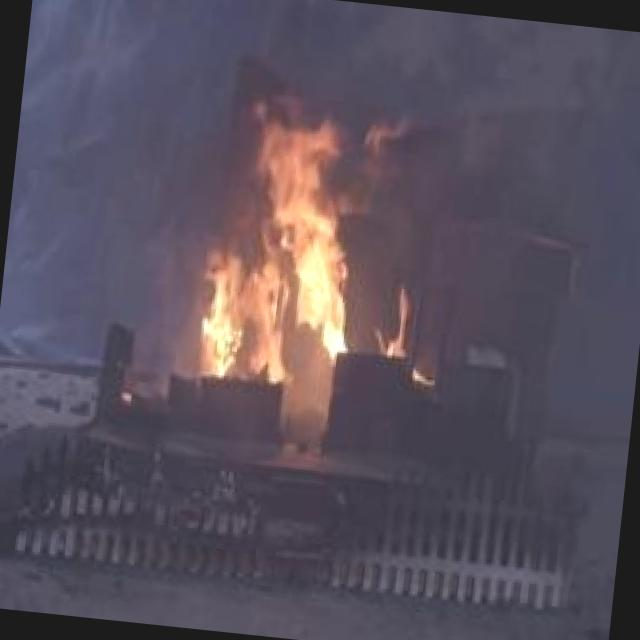fire: (185, 108, 413, 405)
